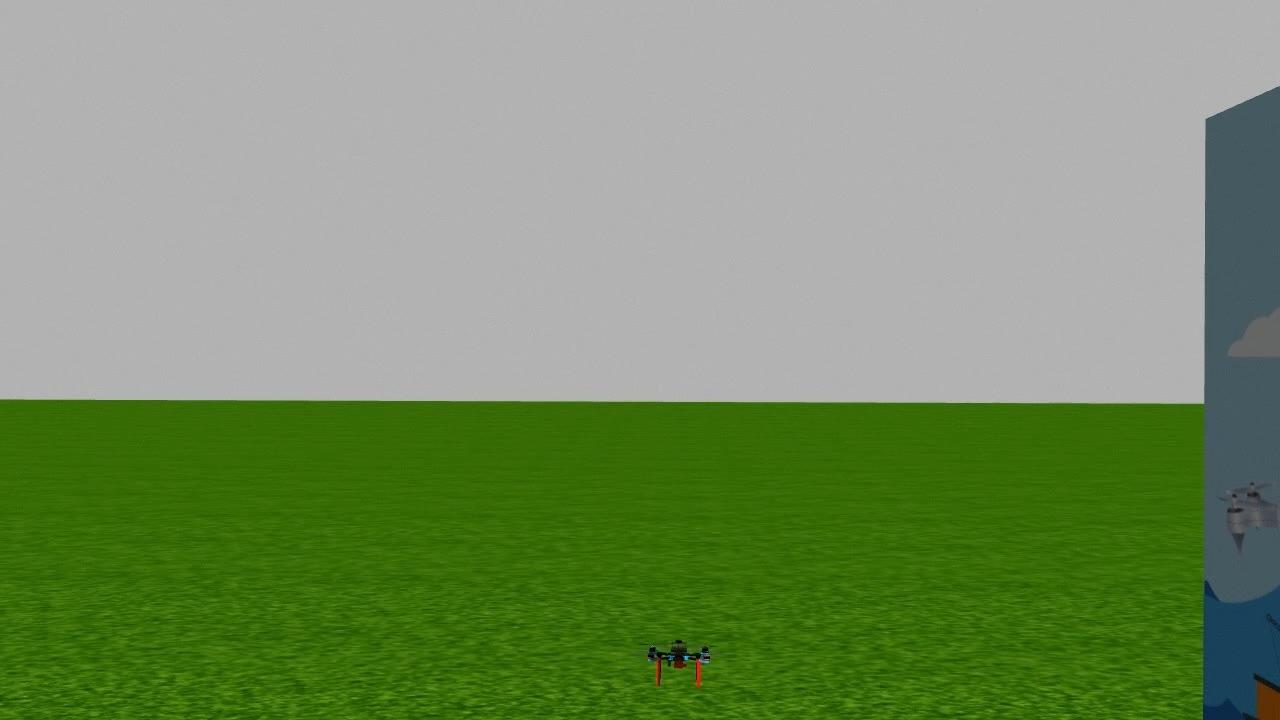UAV: (636, 632, 726, 692)
